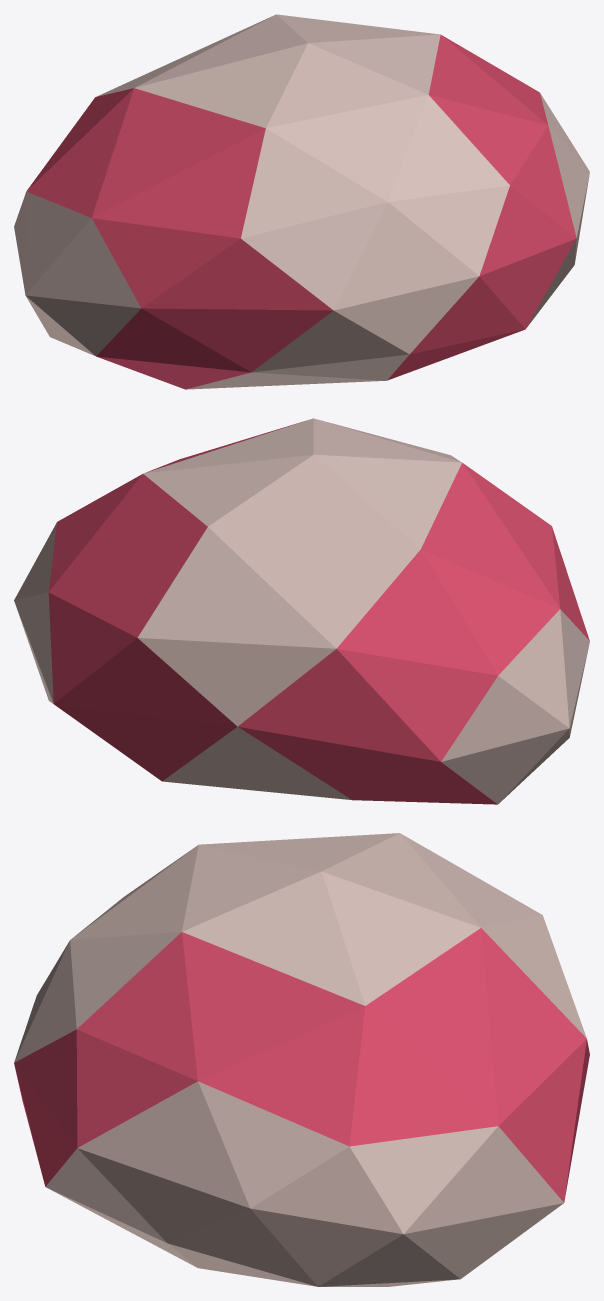
File: Bolinha.fbx
The picture shows the model from 3 angles, top to bottom: view 1: azimuth 30°, elevation 25°; view 2: azimuth 150°, elevation 25°; view 3: azimuth 270°, elevation 25°; orthographic projection. The views are drawn at different scales.
Visible parts, largest first — view 1: Icosphere; view 2: Icosphere; view 3: Icosphere.
Part boxes in pixels (box(x1,y1,x2,y2)): Icosphere: box(14, 14, 589, 389); Icosphere: box(14, 418, 589, 804); Icosphere: box(14, 833, 589, 1286).
Size of the model in its own units: 625 by 339 by 504.
